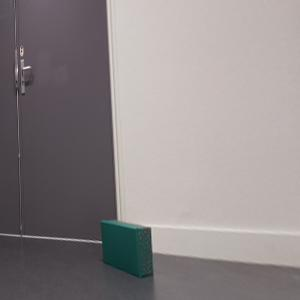small: (99, 216, 155, 281)
